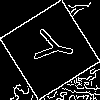Y: (25, 25, 76, 68)
